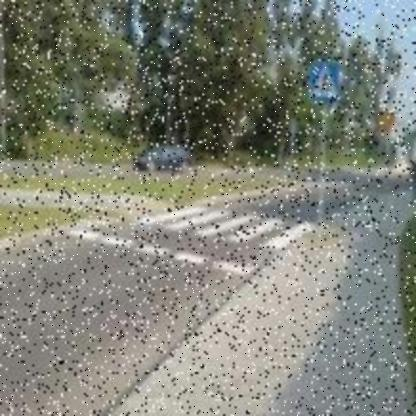Pedestrian Crossing: (308, 62, 343, 108)
